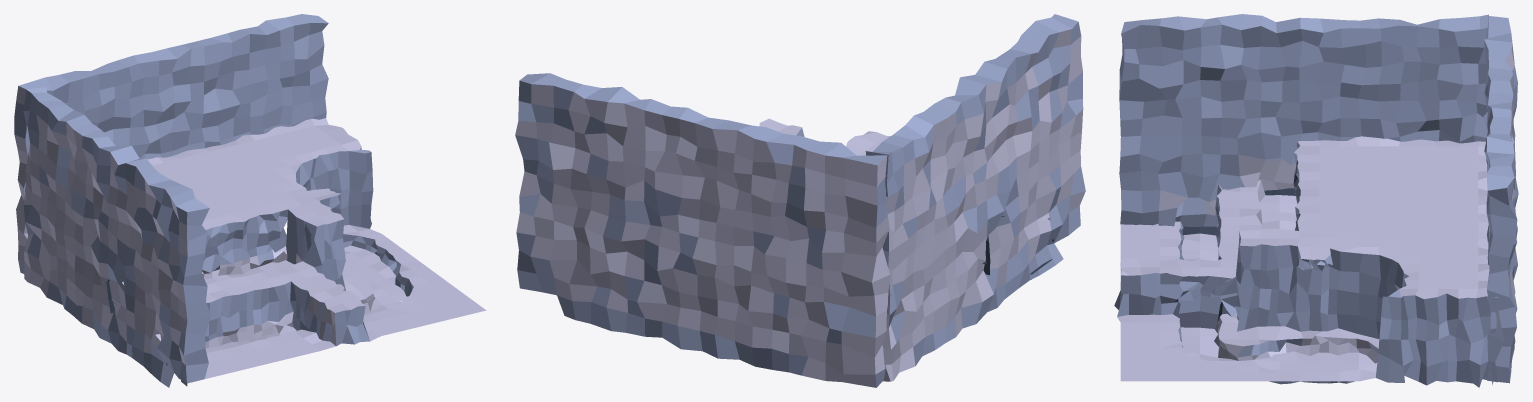
File: cavernTerrain.fbx
3 renders of one model, left to right at view 1: azimuth 30°, elevation 25°; view 2: azimuth 150°, elevation 25°; view 3: azimuth 270°, elevation 25°, orthographic. The views are drawn at different scales.
Visible parts, largest first — view 1: Grid; view 2: Grid; view 3: Grid.
Boxes of the visible parts, left/top/right/bottom form: Grid: left=14, top=14, right=486, bottom=387; Grid: left=515, top=14, right=1085, bottom=387; Grid: left=1114, top=14, right=1518, bottom=387.
Bounding box in the file's own units: 1078 × 665 × 1071.
